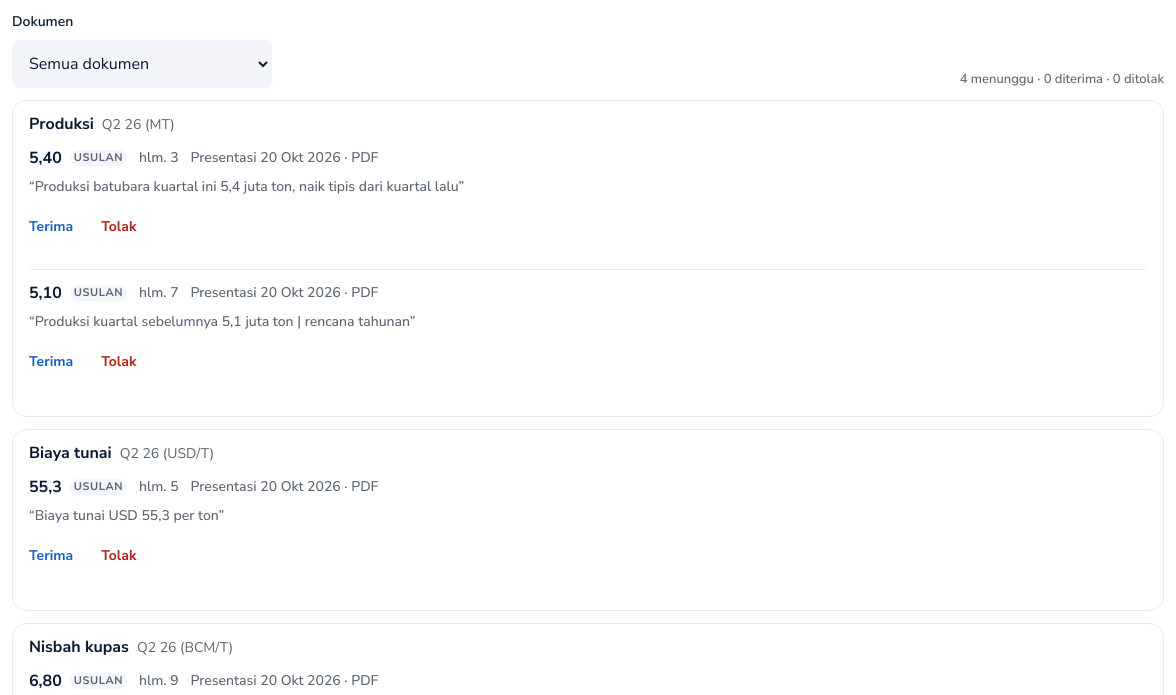
it: ProposalReview: accept › accepts a proposal for an empty cell: POST without a body, badge turns to diterima and Paket is told
Expected: the heading "Biaya tunai Q2 26 (USD/T)" is shown, [29,442,214,464]
Click the button "Terima" below "hlm. 5" at (51, 556), box [17,534,85,578]
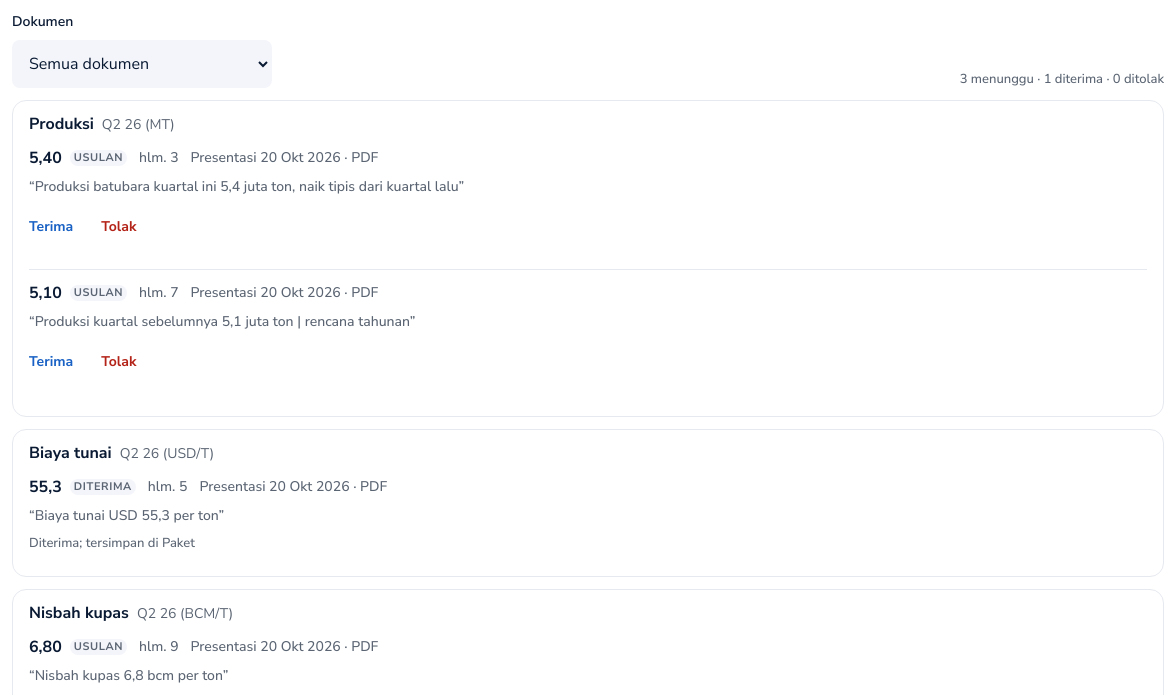
Now the text "diterima" is shown, box [70,479,136,495]
Now the message reads "Diterima; tersimpan di Paket", box [29,534,195,552]
